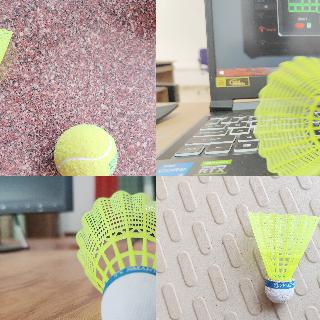shuttlecock: (75, 190, 155, 319), (253, 54, 319, 175), (248, 212, 319, 304), (0, 24, 13, 103)
